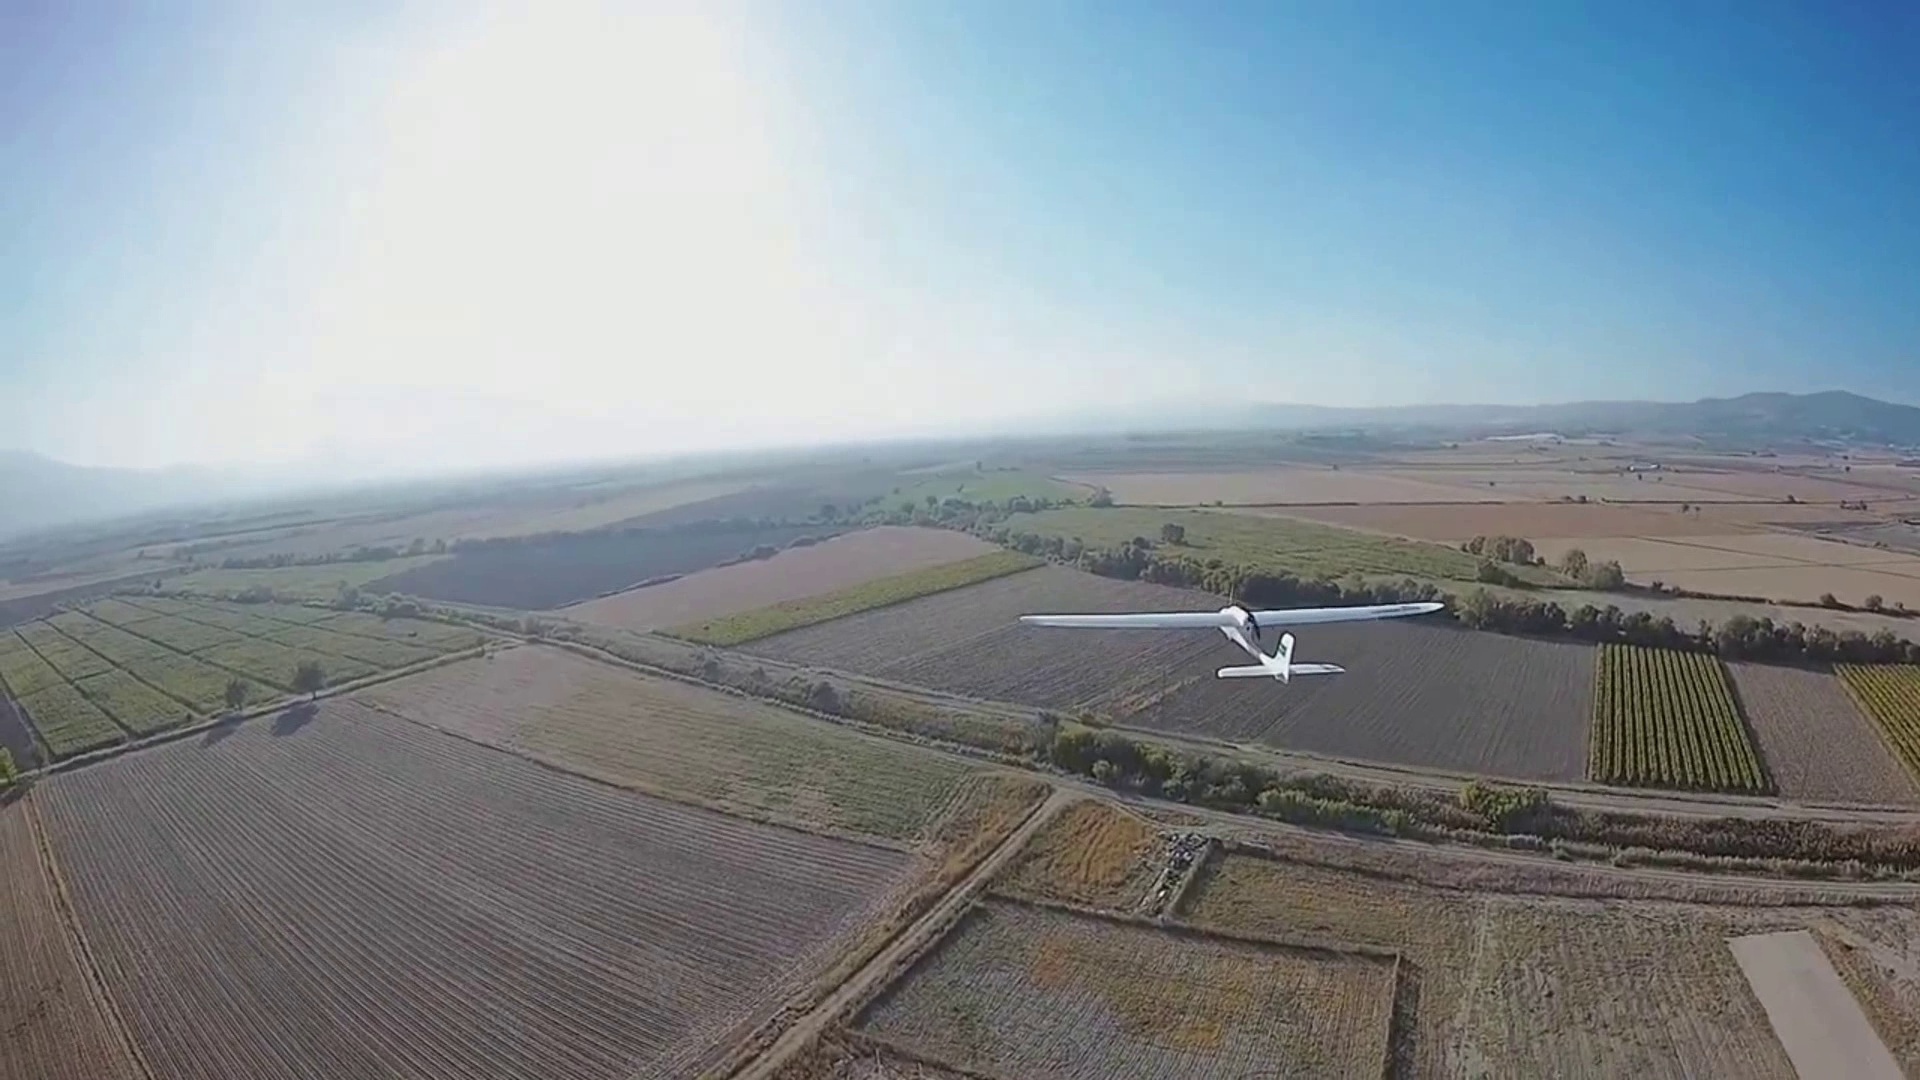airplane: (1214, 603, 1343, 682)
